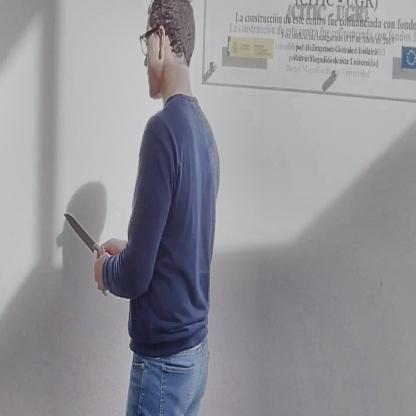knife: (61, 205, 108, 261)
